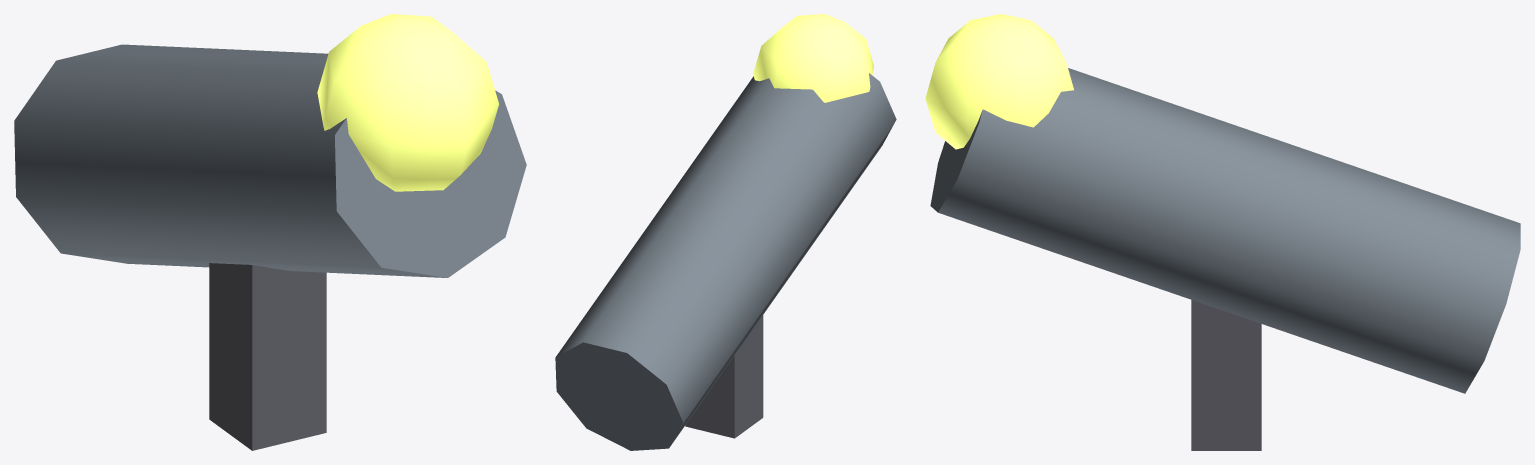
The model's file is balllauncher.glb.
3 renders of one model, left to right at view 1: azimuth 30°, elevation 25°; view 2: azimuth 150°, elevation 25°; view 3: azimuth 270°, elevation 25°, orthographic. The views are drawn at different scales.
Size of the model in its own units: 0.2561 by 0.65 by 0.8446.
